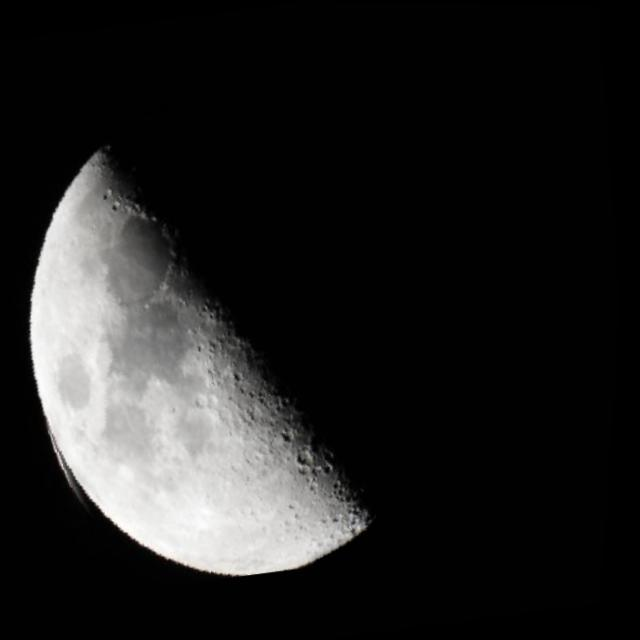moon: (0, 13, 487, 609)
